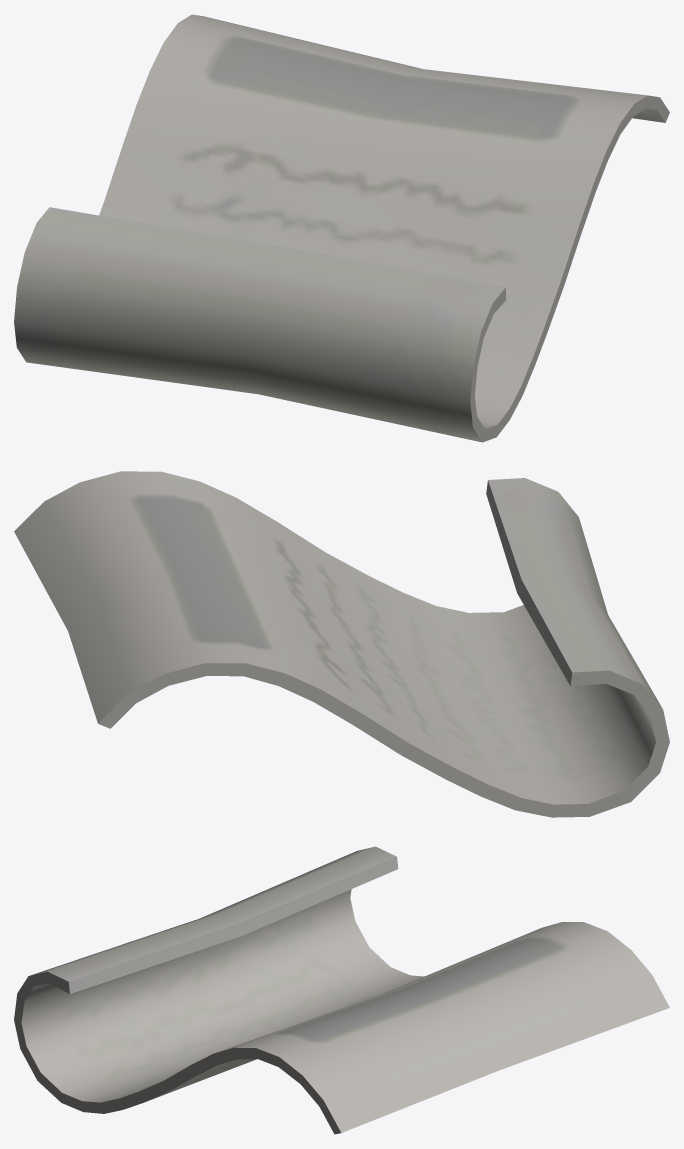
The model's file is UnitIconPaper.glb.
The picture shows the model from 3 angles, top to bottom: view 1: azimuth 30°, elevation 25°; view 2: azimuth 150°, elevation 25°; view 3: azimuth 270°, elevation 25°; orthographic projection. The views are drawn at different scales.
Visible parts, largest first — view 1: Body__mBody; view 2: Body__mBody; view 3: Body__mBody.
Boxes of the visible parts, left/top/right/bottom form: Body__mBody: left=14, top=14, right=669, bottom=442; Body__mBody: left=14, top=471, right=669, bottom=817; Body__mBody: left=14, top=846, right=669, bottom=1134.
Bounding box in the file's own units: 4.68 × 1.3 × 4.59.
1 material, 1 textured.
